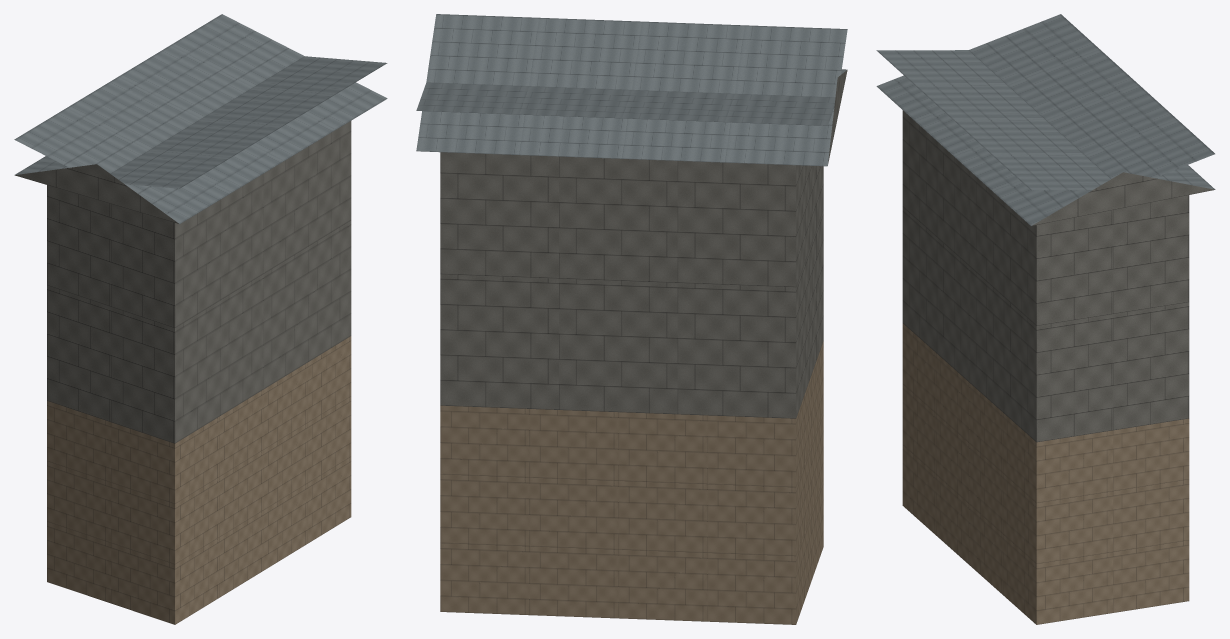
The model's file is bld_c37_-13_536.gltf.
3 views of the same model, side by side, from view 1: azimuth 30°, elevation 25°; view 2: azimuth 150°, elevation 25°; view 3: azimuth 270°, elevation 25° (orthographic). The views are drawn at different scales.
Visible parts, largest first — view 1: bld_c37_-13_536; view 2: bld_c37_-13_536; view 3: bld_c37_-13_536.
Part boxes in pixels (<box>): bld_c37_-13_536: <box>14,14,387,624</box>; bld_c37_-13_536: <box>416,14,847,624</box>; bld_c37_-13_536: <box>876,14,1215,624</box>.
Size of the model in its own units: 10.57 by 12.6 by 8.59.
Materials: 4 (4 with a texture image).
